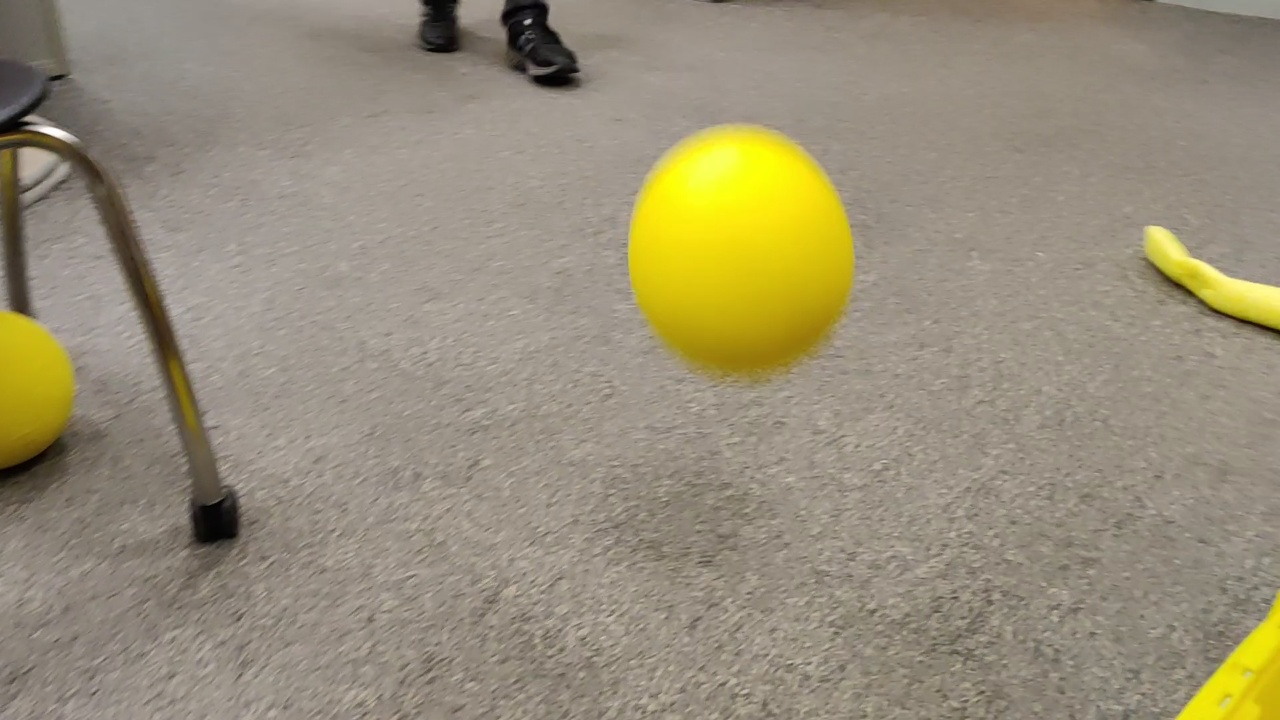Ball: (628, 125, 849, 380)
